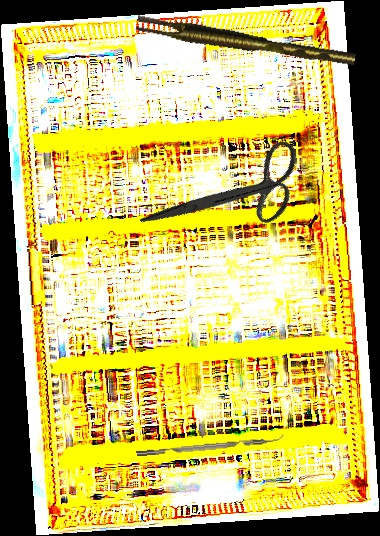Chopper: (135, 431, 285, 457)
Iris Scissors: (138, 100, 321, 289)
Tissue Forceps: (135, 8, 356, 77)
